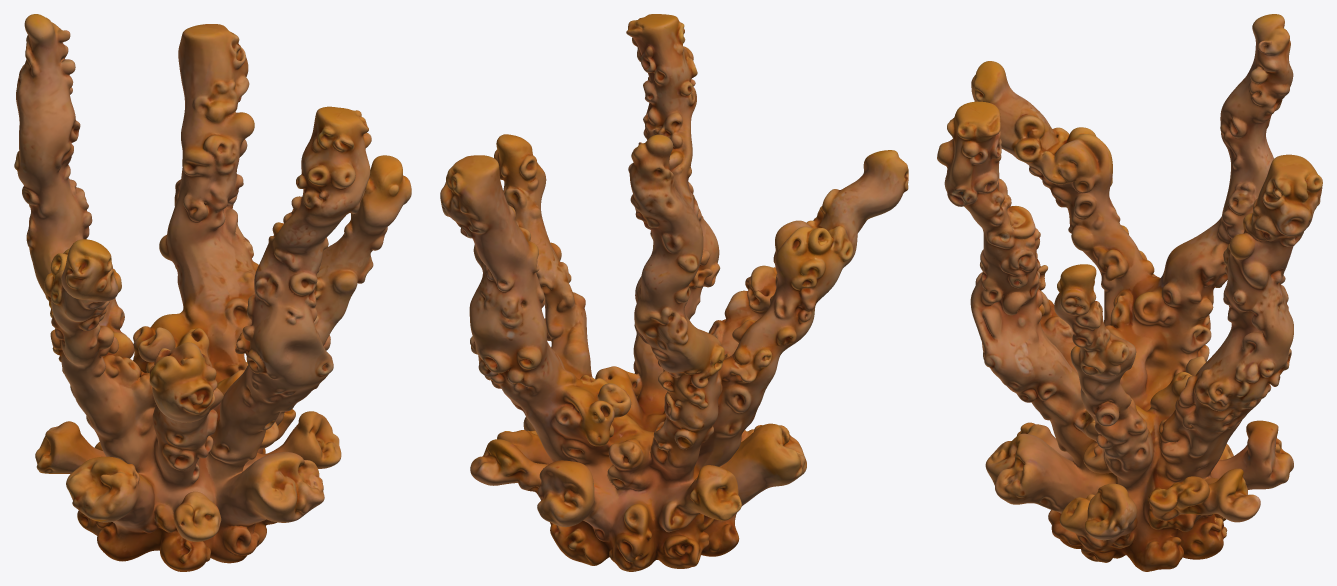
Rendered from sponge_rope.glb.
The picture shows the model from 3 angles, left to right: view 1: azimuth 30°, elevation 25°; view 2: azimuth 150°, elevation 25°; view 3: azimuth 270°, elevation 25°; orthographic projection. The views are drawn at different scales.
Visible parts, largest first — view 1: tripo_node_a15e1585-e675-43ee-9a00-13b1e72c6073; view 2: tripo_node_a15e1585-e675-43ee-9a00-13b1e72c6073; view 3: tripo_node_a15e1585-e675-43ee-9a00-13b1e72c6073.
Part boxes in pixels (box(x1,y1,x2,y2)): tripo_node_a15e1585-e675-43ee-9a00-13b1e72c6073: box(14, 14, 411, 571); tripo_node_a15e1585-e675-43ee-9a00-13b1e72c6073: box(440, 14, 908, 571); tripo_node_a15e1585-e675-43ee-9a00-13b1e72c6073: box(937, 14, 1322, 571).
Bounding box in the file's own units: 0.8077 × 1 × 0.7144.
1 material, 1 textured.
